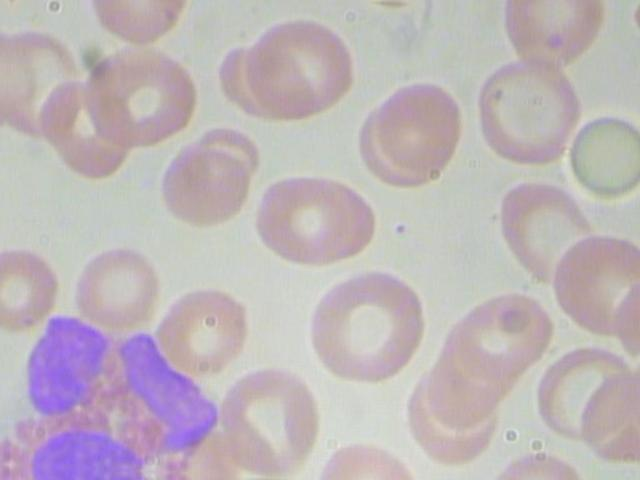RBC: (297, 265, 435, 397), (489, 174, 603, 294), (79, 39, 197, 152), (471, 55, 585, 171), (241, 15, 364, 122), (214, 362, 328, 474), (251, 174, 365, 268), (152, 282, 262, 377), (455, 285, 559, 382), (368, 78, 464, 175), (152, 143, 252, 228), (74, 241, 162, 331)
WBC: (0, 305, 234, 475)
